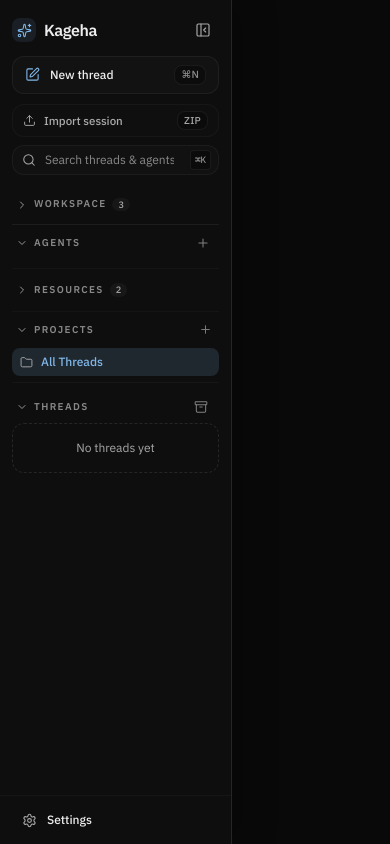
Test case: workspace navigation › keeps Extensions in Settings when collapsed=true
Click the button "Workspace 3". click: (116, 205)
box: [16, 193, 215, 216]
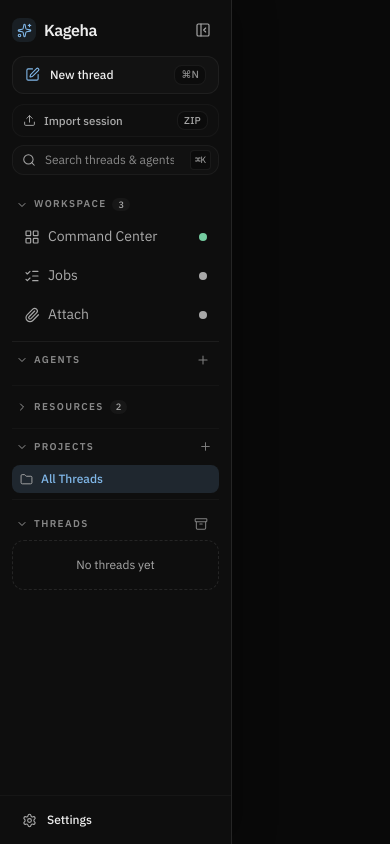
Expected: the button "Settings" is shown, [12, 804, 219, 836]
Expected: the button "Jobs" is shown, [12, 257, 219, 294]
Expected: the button "Attach" is shown, [12, 296, 219, 333]
